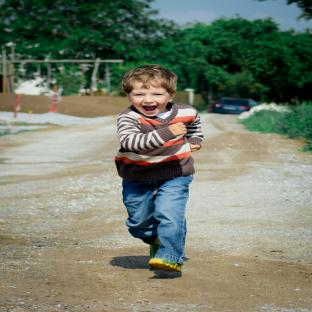Human: (115, 64, 205, 272)
